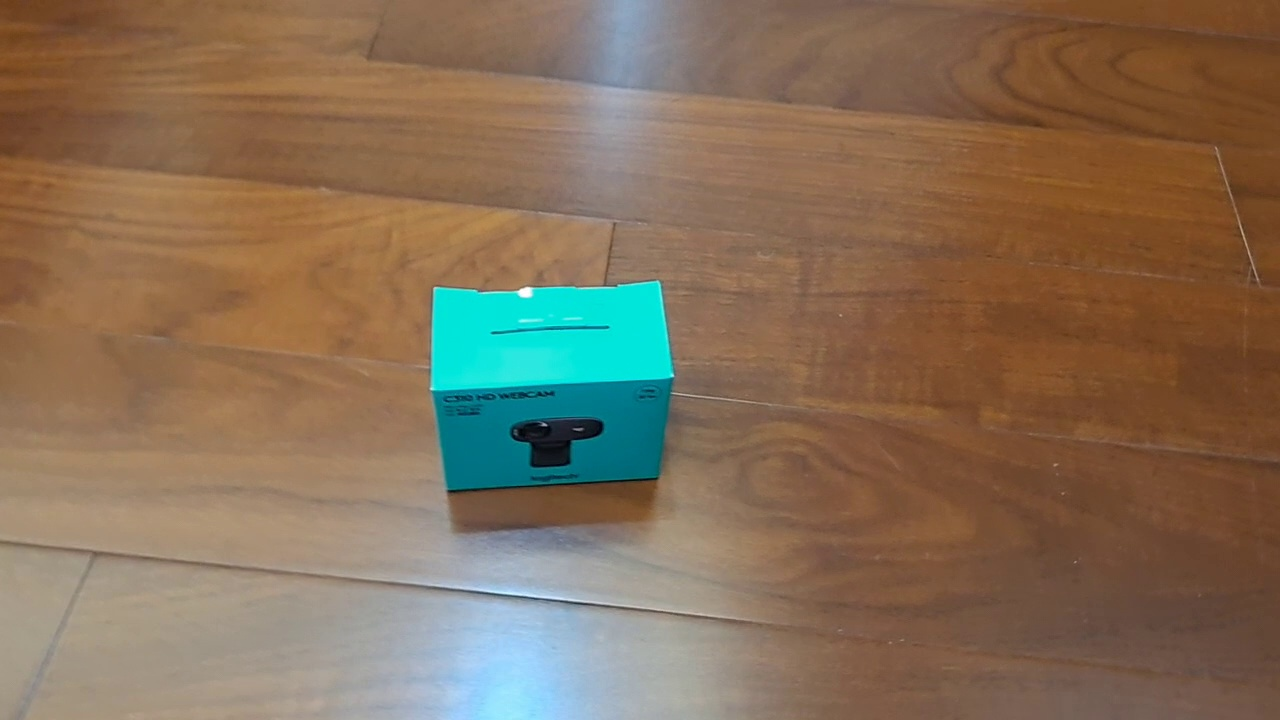webcam: (428, 279, 676, 494)
